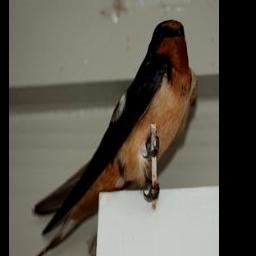Swallow: (13, 18, 191, 256)
